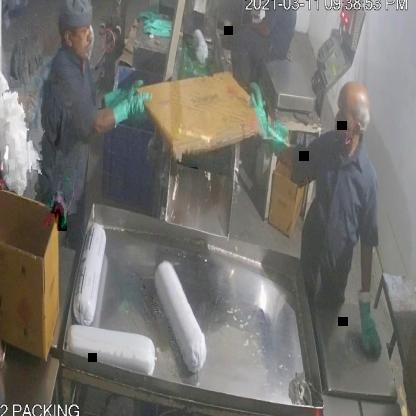glove: (354, 279, 386, 374)
